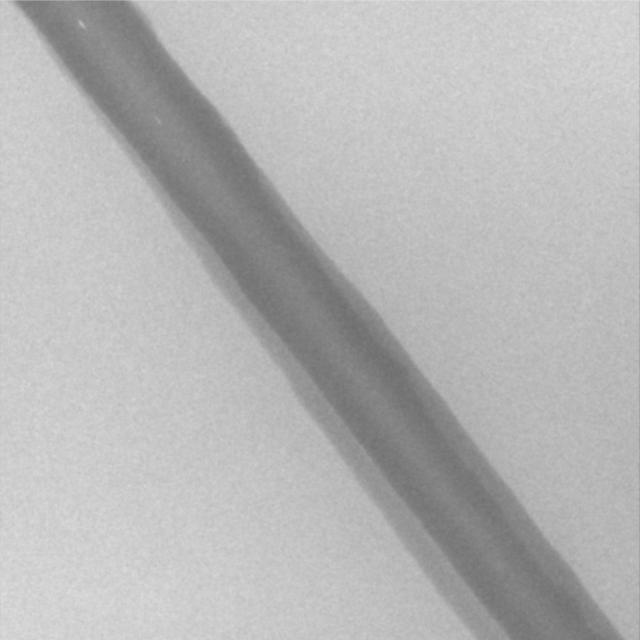air hole: (155, 114, 163, 127), (76, 20, 85, 31)
